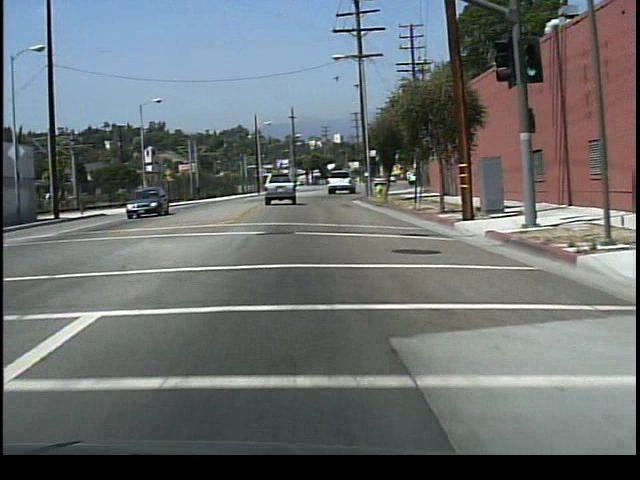person: (194, 182, 205, 204)
